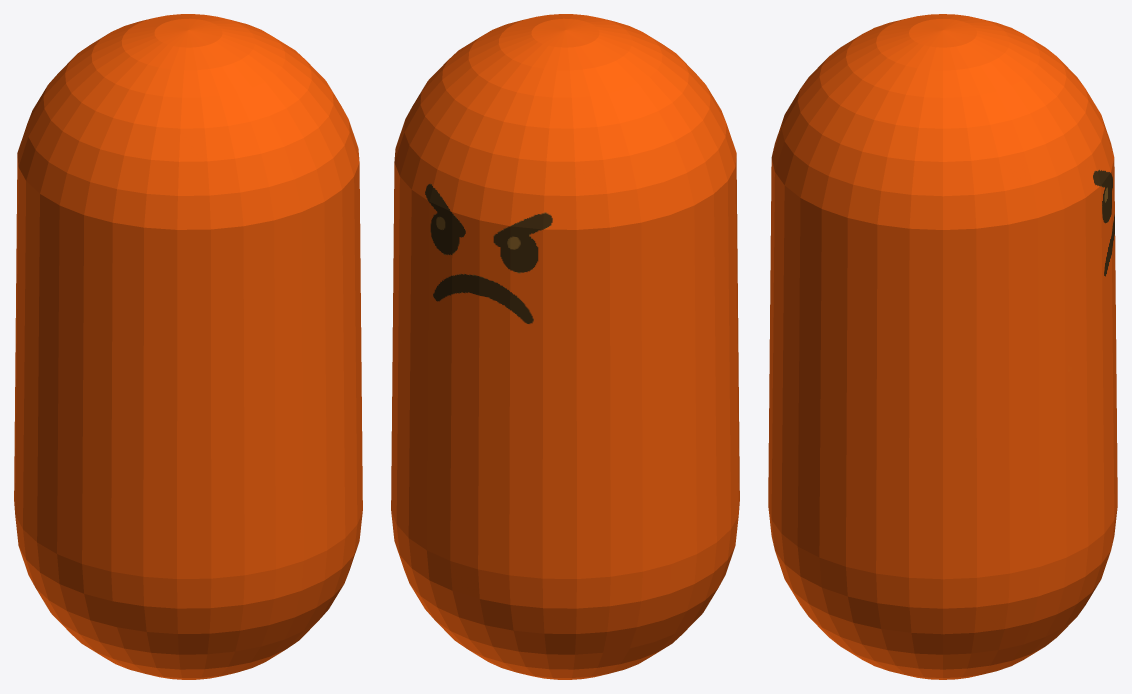
Rendered from enemy_capsule.glb.
The picture shows the model from 3 angles, left to right: view 1: azimuth 30°, elevation 25°; view 2: azimuth 150°, elevation 25°; view 3: azimuth 270°, elevation 25°; orthographic projection.
Visible parts, largest first — view 1: EnemyCapsule; view 2: EnemyCapsule; view 3: EnemyCapsule.
Part boxes in pixels (<box>): EnemyCapsule: <box>14,14,362,679</box>; EnemyCapsule: <box>391,14,739,679</box>; EnemyCapsule: <box>768,14,1117,679</box>.
Bounding box in the file's own units: 1 × 2 × 1.
Materials: 1 (1 with a texture image).
